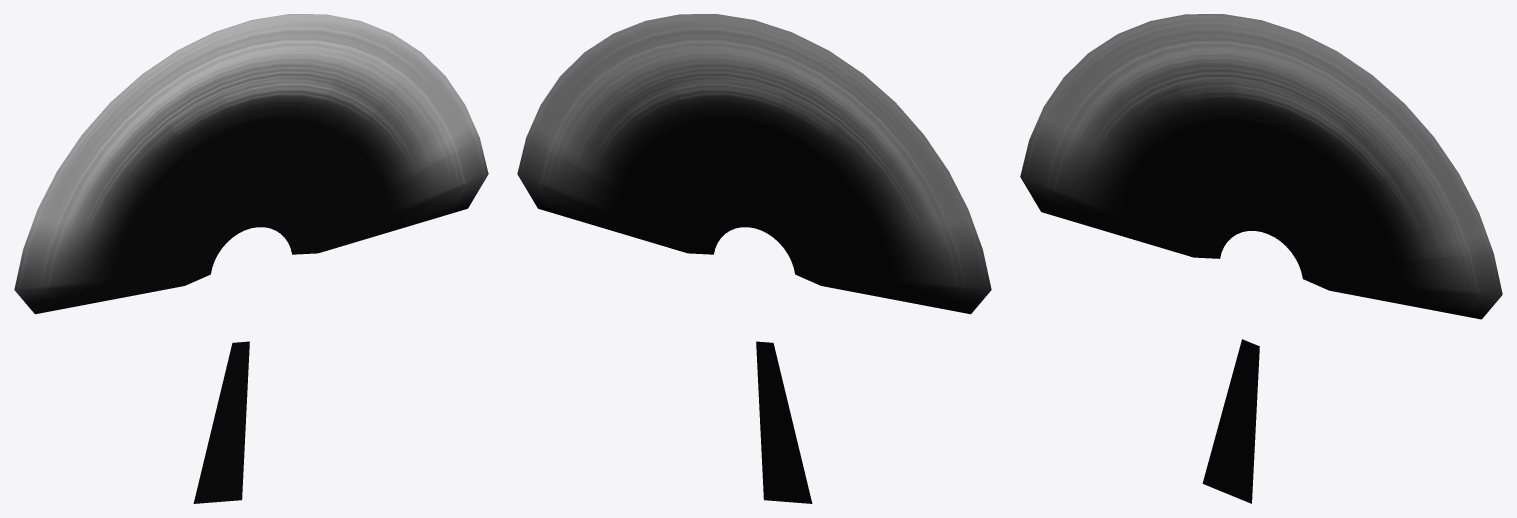
Rendered from Trail.fbx.
3 renders of one model, left to right at view 1: azimuth 30°, elevation 25°; view 2: azimuth 150°, elevation 25°; view 3: azimuth 330°, elevation 25°, orthographic.
Visible parts, largest first — view 1: pCylinder1; view 2: pCylinder1; view 3: pCylinder1.
Boxes of the visible parts, box(x1,y1,x2,y2) form: pCylinder1: box(14, 14, 488, 503); pCylinder1: box(517, 14, 991, 503); pCylinder1: box(1020, 14, 1502, 503).
Bounding box in the file's own units: 97.55 × 93.9 × 0.
